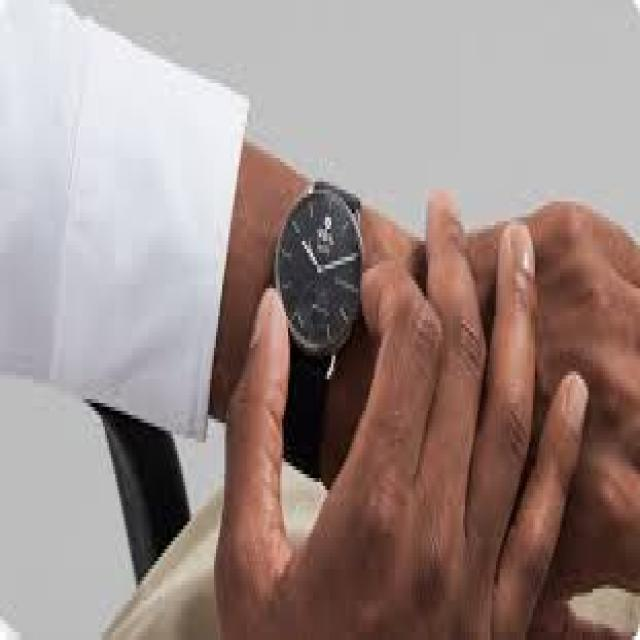objects: (268, 166, 367, 457)
